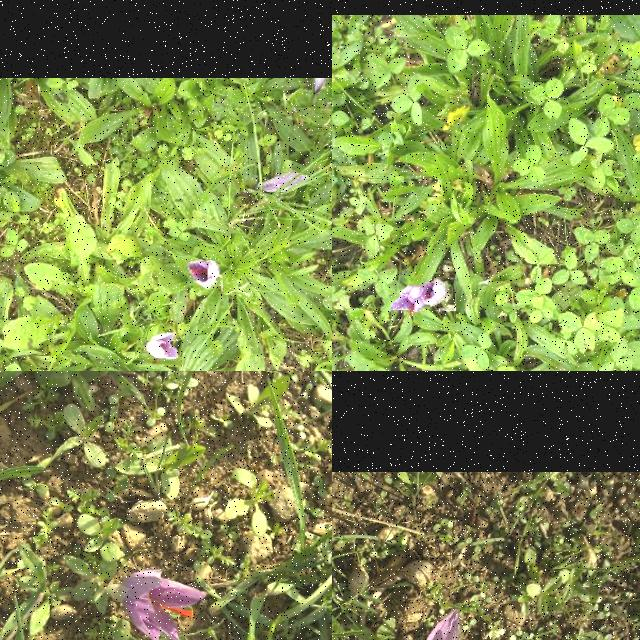flower: (114, 569, 207, 640), (372, 610, 484, 640), (189, 260, 219, 290), (147, 333, 179, 359)
overlap: (389, 280, 446, 314)
